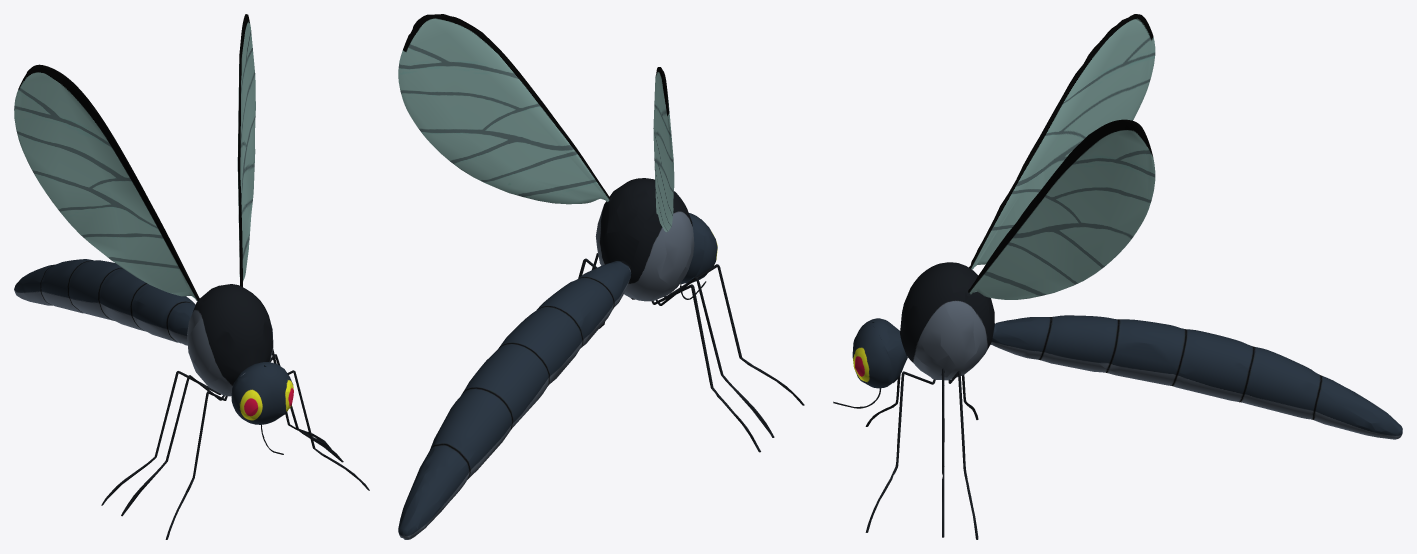
Rendered from Mosquito_Optimized.FBX.
The picture shows the model from 3 angles, left to right: view 1: azimuth 30°, elevation 25°; view 2: azimuth 150°, elevation 25°; view 3: azimuth 270°, elevation 25°; orthographic projection. The views are drawn at different scales.
Visible parts, largest first — view 1: node_id5; view 2: node_id5; view 3: node_id5.
Part boxes in pixels (x1,y1,x2,y2): node_id5: (14,14,369,539); node_id5: (398,14,804,539); node_id5: (833,14,1402,539).
Size of the model in its own units: 0.334 by 0.5112 by 0.6412.
1 material, 1 textured.
